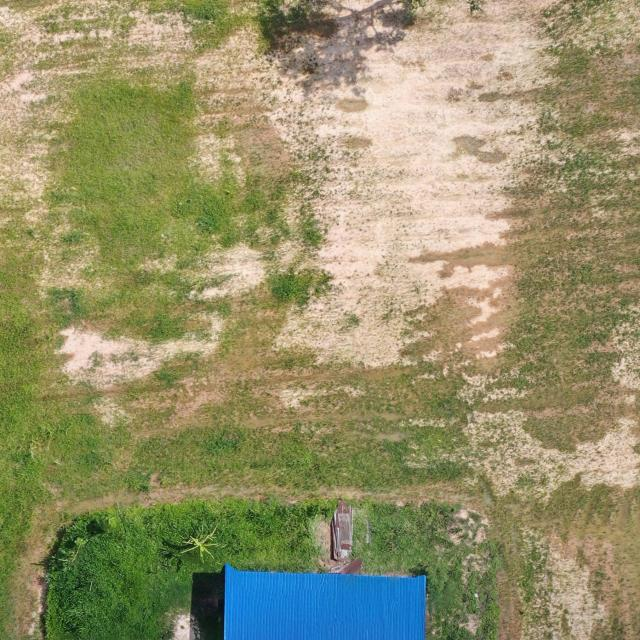Tree: (171, 518, 226, 564)
